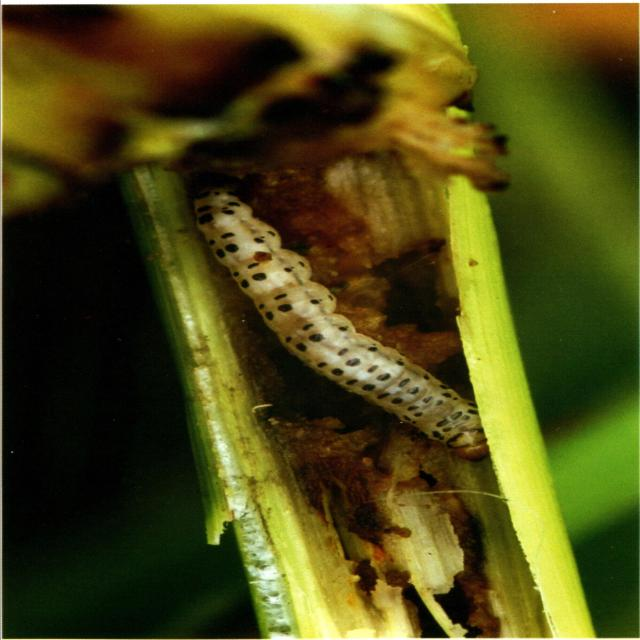peach borer: (196, 188, 490, 474)
